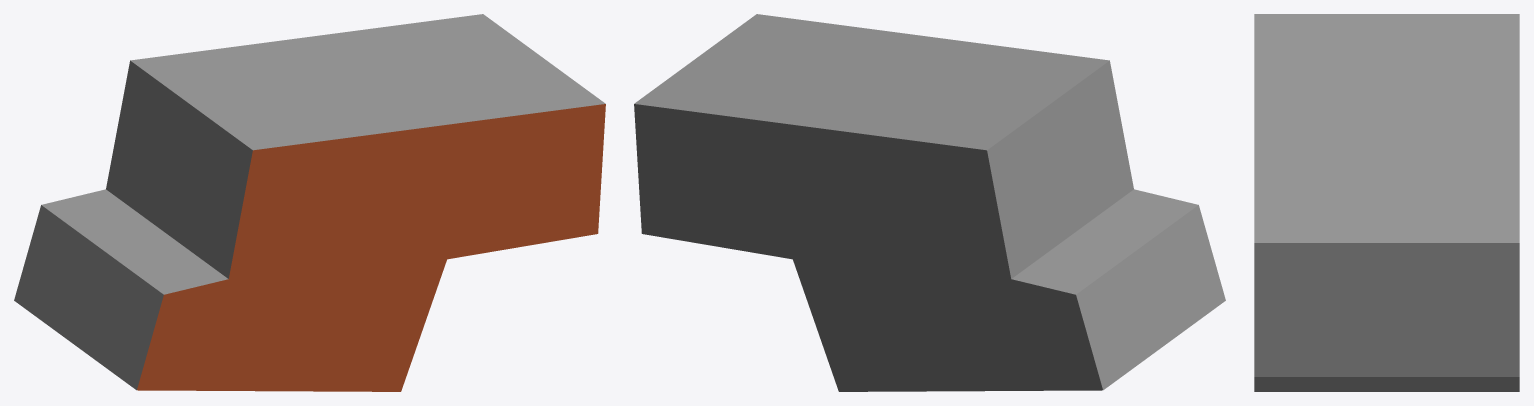
The model's file is construction_4617_assumed_A_Casa_h6m.obj.
The picture shows the model from 3 angles, left to right: view 1: azimuth 30°, elevation 25°; view 2: azimuth 150°, elevation 25°; view 3: azimuth 270°, elevation 25°; orthographic projection. The views are drawn at different scales.
Visible parts, largest first — view 1: construction_4617_assumed_A_Casa; view 2: construction_4617_assumed_A_Casa; view 3: construction_4617_assumed_A_Casa.
Boxes of the visible parts, x1,y1,x2,y2 form: construction_4617_assumed_A_Casa: (14,14,605,391); construction_4617_assumed_A_Casa: (634,14,1225,391); construction_4617_assumed_A_Casa: (1254,14,1519,391).
Size of the model in its own units: 13.24 by 7.49 by 6.
